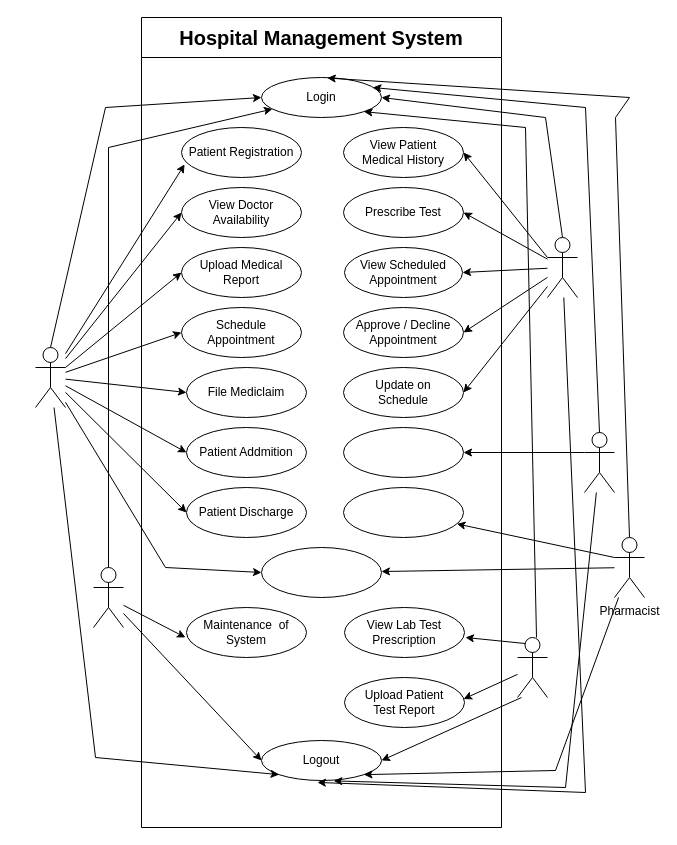
This 677x845 diagram has some shape labels left out. The centre of each missing label's shape, as x and y in pixels:
"Admin" belongs at point (108, 597).
"Check Patient Vitals" belongs at point (403, 452).
"Doctor" belongs at point (562, 267).
"Lab Technician" belongs at point (532, 667).
"Maintain Medicine Stock" belongs at point (403, 512).
"Nurse" belongs at point (599, 462).
"Print bill Receipt" belongs at point (321, 572).
"Receptionist" belongs at point (50, 377).
